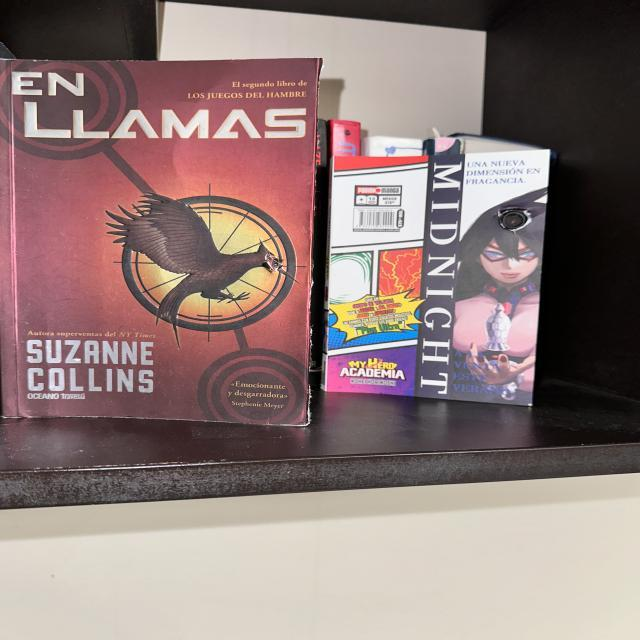hidden camera: (503, 212, 525, 229), (273, 261, 280, 267)
